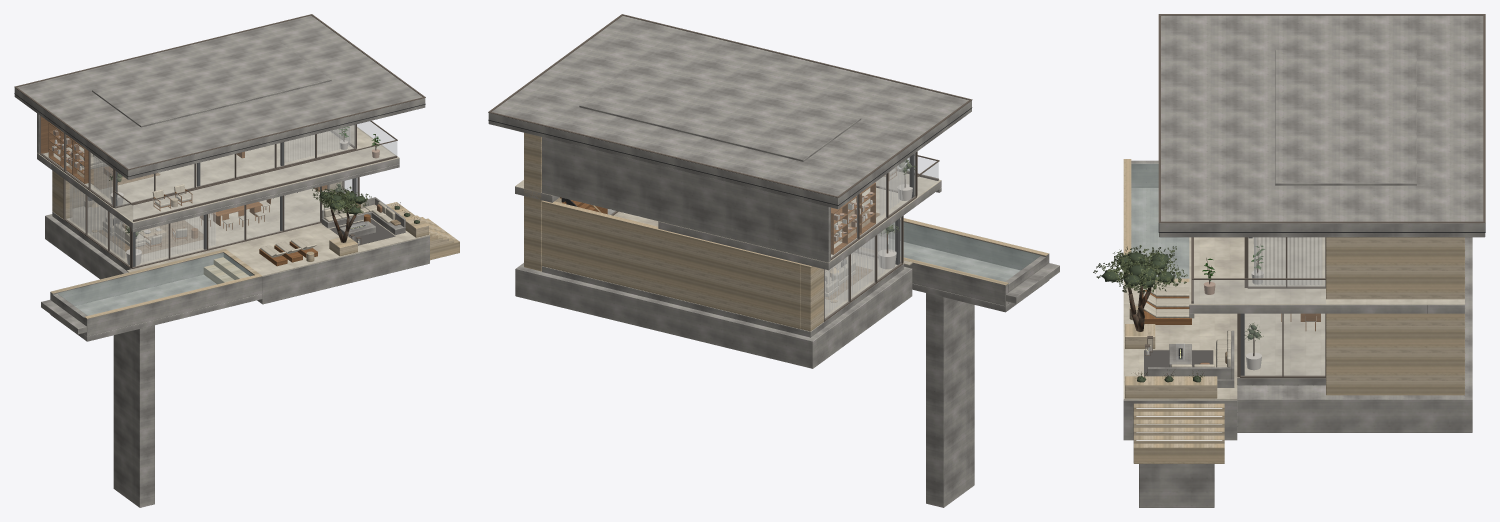
File: residence.glb
3 views of the same model, side by side, from view 1: azimuth 30°, elevation 25°; view 2: azimuth 150°, elevation 25°; view 3: azimuth 270°, elevation 25° (orthographic). The views are drawn at different scales.
Parts seen in each view (by area): view 1: Roof_Slab, Pool, Slab_L2, Terrace, Facade_L1_Front, Facade_L2_Front, Balustrade, Slab_L1, Pool_Water, Facade_L2_West, Facade_L1_West, Curtain_L1_Front (+18 smaller); view 2: Roof_Slab, Walls, Pool, Podium, Pool_Water, Slab_L2, Facade_L2_West, Stone_Core, Facade_L1_West, Slab_L1, Roof_Detail, Curtain_L1_West (+4 smaller); view 3: Roof_Slab, Stone_Core, Slab_L2, Podium, Pool, Terrace_Steps, Terrace, Facade_L1_East, Slab_L1, Facade_L2_East, Terrace_Olive, Balustrade (+7 smaller).
Boxes of the visible parts, x1,y1,x2,y2 form: Roof_Slab: (14, 15, 425, 179); Pool: (41, 249, 262, 507); Slab_L2: (37, 125, 399, 228); Terrace: (126, 218, 430, 304); Facade_L1_Front: (131, 177, 359, 268); Facade_L2_Front: (114, 124, 356, 208); Balustrade: (113, 120, 397, 221); Slab_L1: (52, 188, 329, 270); Pool_Water: (58, 253, 252, 315); Facade_L2_West: (39, 115, 113, 207); Facade_L1_West: (63, 178, 130, 268); Curtain_L1_Front: (136, 212, 215, 262); Roof_Slab: (488, 16, 971, 209); Walls: (542, 137, 830, 328); Pool: (859, 218, 1059, 507); Podium: (515, 209, 912, 368); Pool_Water: (904, 222, 1039, 281); Slab_L2: (515, 171, 941, 270); Facade_L2_West: (830, 152, 917, 260); Stone_Core: (524, 132, 823, 331); Facade_L1_West: (824, 216, 903, 321); Slab_L1: (542, 211, 903, 337); Roof_Detail: (488, 14, 972, 205); Curtain_L1_West: (824, 229, 885, 315); Roof_Slab: (1159, 15, 1485, 237); Stone_Core: (1326, 237, 1464, 395); Slab_L2: (1189, 237, 1464, 313); Podium: (1237, 237, 1472, 432); Pool: (1123, 159, 1214, 507); Terrace_Steps: (1133, 403, 1224, 463); Terrace: (1123, 282, 1237, 440); Facade_L1_East: (1239, 313, 1325, 377); Slab_L1: (1237, 313, 1325, 385); Facade_L2_East: (1247, 237, 1325, 288); Terrace_Olive: (1093, 245, 1187, 348); Balustrade: (1191, 237, 1325, 303).
Bounding box in the file's own units: 25.28 × 21.02 × 15.72.
Materials: 29 (12 with a texture image).
